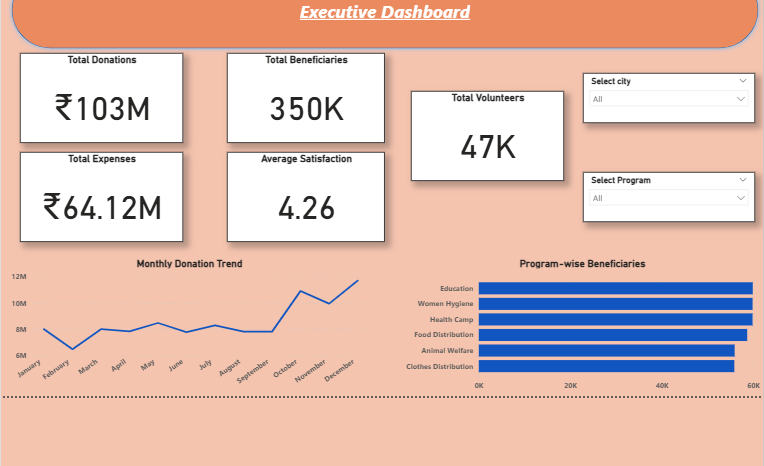

What the dashboard file says about the page in this screenshot:
{"tool":"powerbi","page":{"name":"Page 1","canvas":[1280,720],"ordinal":0},"visuals":[{"type":"shape","title":"EXECUTIVE DASHBOARD","box":[10.1,0,1269.9,144.5],"z":0},{"type":"card","title":"Total Donations","fields":{"Values":["Sum(feathers vw_donor_summary.Total_Donations)"]},"box":[31.9,144.5,273.8,151.2],"z":1000},{"type":"card","title":"Total Beneficiaries","fields":{"Values":["Sum(feathers vw_monthly_summary.Total_Beneficiaries)"]},"box":[379.6,144.5,265.4,151.2],"z":2000},{"type":"card","title":" Total Volunteers","fields":{"Values":["Sum(feathers vw_monthly_summary.Total_Volunteers)"]},"box":[688.7,208.3,257,151.2],"z":3000},{"type":"card","title":"Total Expenses","fields":{"Values":["Sum(feathers NGO_Analytics.Expenses_INR)"]},"box":[31.9,310.8,273.8,151.2],"z":4000},{"type":"card","title":"Average Satisfaction","fields":{"Values":["Avg(feathers NGO_Analytics.Satisfaction_Score)"]},"box":[379.6,310.8,265.4,151.2],"z":5000},{"type":"lineChart","title":"Monthly Donation Trend","fields":{"Category":["feathers NGO_Analytics.Date_column.Variation.Date Hierarchy.Month"],"Y":["Sum(feathers NGO_Analytics.Donation_Amount_INR)"]},"box":[10.1,487.1,613.1,233.5],"z":6000},{"type":"clusteredBarChart","title":"Program-wise Beneficiaries","fields":{"Category":["feathers NGO_Analytics.Program"],"Y":["Sum(feathers NGO_Analytics.Beneficiaries)"]},"box":[673.6,487.1,606.4,233.5],"z":7000},{"type":"slicer","fields":{"Values":["feathers vw_donor_summary.Donor_Type"]},"box":[977.6,344.4,288.9,84],"z":8000},{"type":"slicer","fields":{"Values":["feathers NGO_Analytics.City","feathers vw_impact_summary.Program"]},"box":[977.6,178.1,288.9,84],"z":9000}]}

Visuals, with their boxes on the page's 1280x720 design canvas (x1, y1, x2, y2). These are canvas units, not pixel positions in the 764x466 screenshot, which may show the page scaled, cropped or inside an application window:
"EXECUTIVE DASHBOARD" shape: (left=10, top=0, right=1280, bottom=144)
"Total Donations" card: (left=32, top=144, right=306, bottom=296)
"Total Beneficiaries" card: (left=380, top=144, right=645, bottom=296)
" Total Volunteers" card: (left=689, top=208, right=946, bottom=360)
"Total Expenses" card: (left=32, top=311, right=306, bottom=462)
"Average Satisfaction" card: (left=380, top=311, right=645, bottom=462)
"Monthly Donation Trend" lineChart: (left=10, top=487, right=623, bottom=721)
"Program-wise Beneficiaries" clusteredBarChart: (left=674, top=487, right=1280, bottom=721)
slicer - feathers vw_donor_summary.Donor_Type: (left=978, top=344, right=1266, bottom=428)
slicer - feathers NGO_Analytics.City x feathers vw_impact_summary.Program: (left=978, top=178, right=1266, bottom=262)
